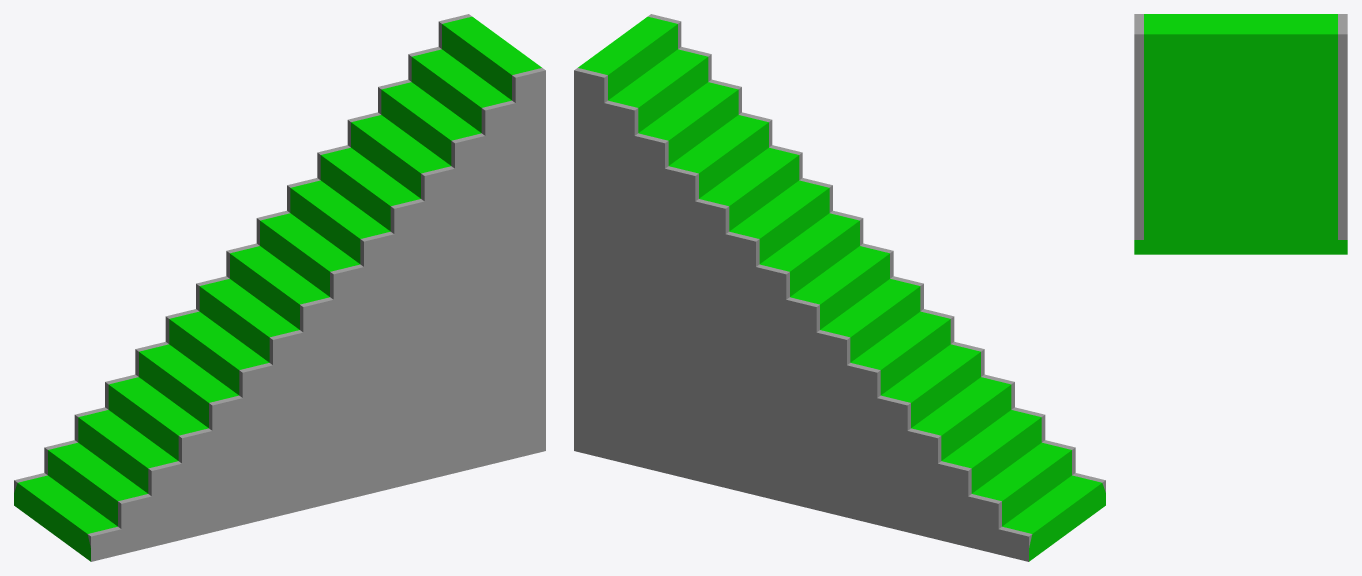
Rendered from Stairs.fbx.
The picture shows the model from 3 angles, left to right: view 1: azimuth 30°, elevation 25°; view 2: azimuth 150°, elevation 25°; view 3: azimuth 270°, elevation 25°; orthographic projection. The views are drawn at different scales.
Visible parts, largest first — view 1: pPlane1; view 2: pPlane1; view 3: pPlane1.
Part boxes in pixels (box(x1,y1,x2,y2)): pPlane1: box(14, 14, 545, 561); pPlane1: box(574, 14, 1105, 561); pPlane1: box(1134, 14, 1347, 254).
Size of the model in its own units: 375 by 300 by 110.
